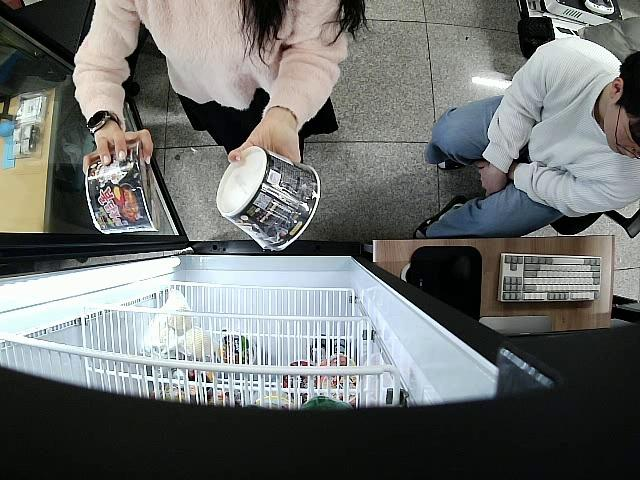00_hand: (227, 117, 301, 170), (80, 129, 153, 176)
07_buldak_L: (216, 146, 321, 251), (85, 142, 161, 233)
